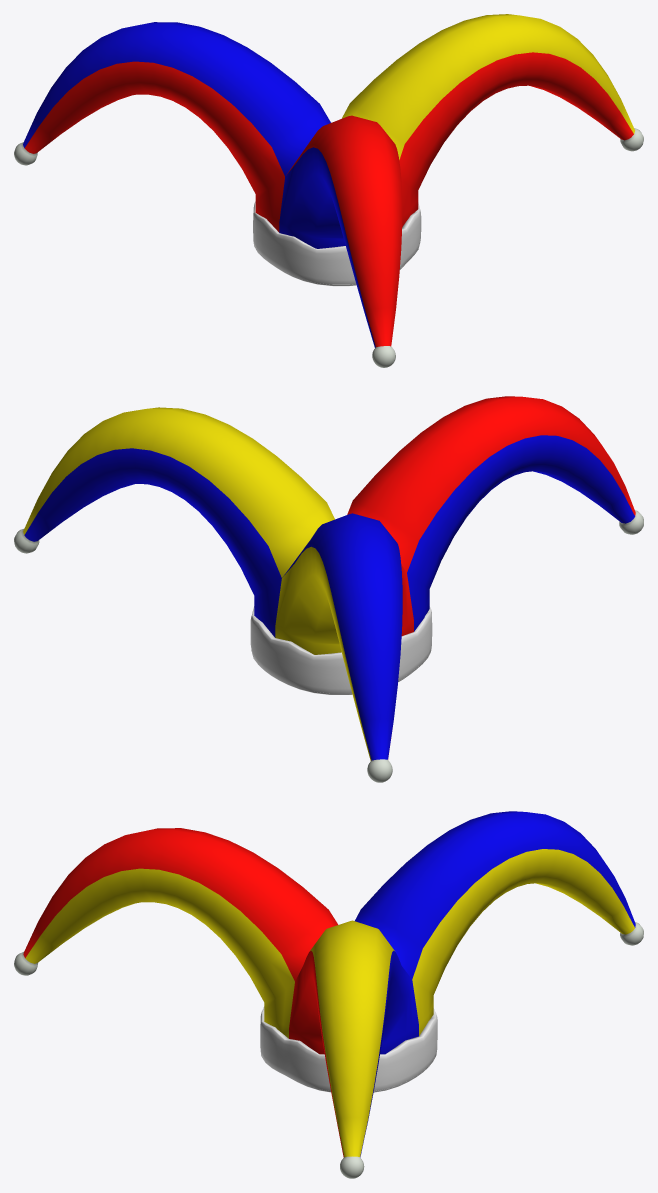
The picture shows the model from 3 angles, top to bottom: view 1: azimuth 30°, elevation 25°; view 2: azimuth 150°, elevation 25°; view 3: azimuth 270°, elevation 25°; orthographic projection. The views are drawn at different scales.
Visible parts, largest first — view 1: NurbsPath; view 2: NurbsPath; view 3: NurbsPath.
Boxes of the visible parts, left/top/right/bottom form: NurbsPath: left=14, top=14, right=643, bottom=367; NurbsPath: left=14, top=396, right=643, bottom=782; NurbsPath: left=14, top=811, right=643, bottom=1178.
Bounding box in the file's own units: 311 × 117 × 340.
